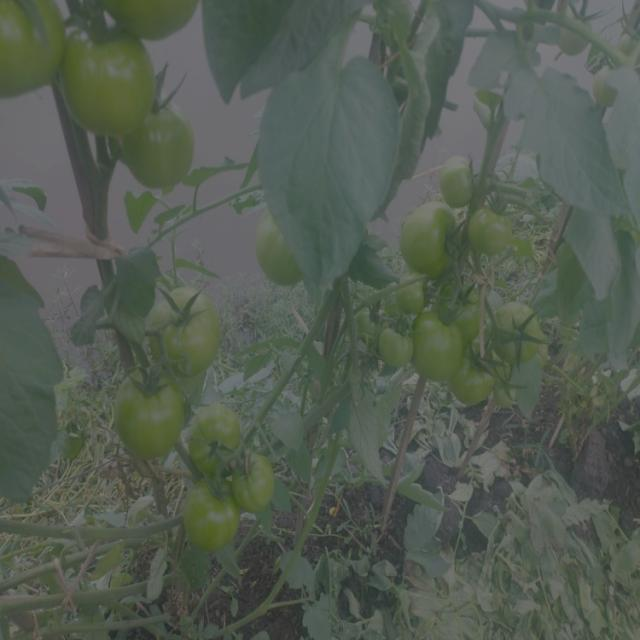tomato: (72, 46, 205, 196), (140, 288, 225, 379), (1, 2, 69, 94), (117, 383, 186, 459), (252, 211, 317, 291), (179, 482, 241, 557), (94, 3, 223, 39), (412, 312, 479, 378), (485, 301, 549, 366), (401, 212, 460, 278), (190, 402, 239, 471), (435, 151, 483, 212), (243, 451, 277, 518), (465, 217, 515, 255), (560, 10, 599, 58), (379, 325, 411, 369), (591, 71, 625, 109), (394, 282, 432, 313), (451, 381, 494, 407), (616, 33, 640, 65), (498, 375, 519, 406), (357, 303, 378, 334), (515, 237, 535, 261)
